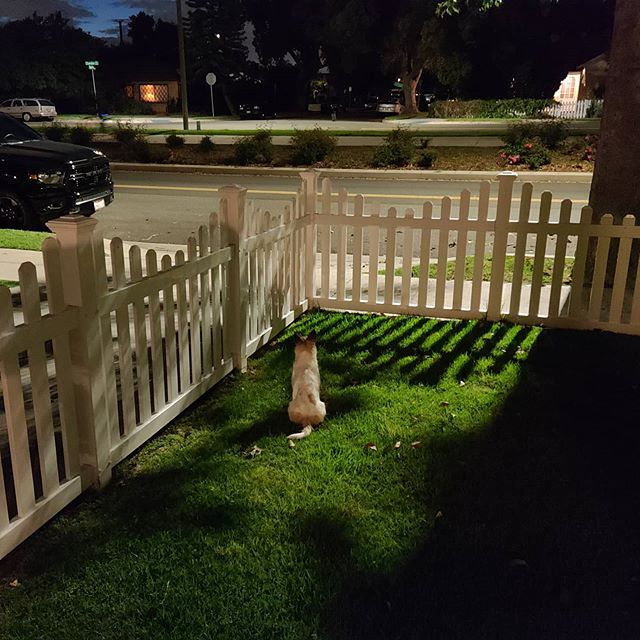animal: (277, 333, 345, 434)
car: (1, 115, 108, 240)
grass: (27, 328, 640, 634)
street: (92, 157, 591, 257)
